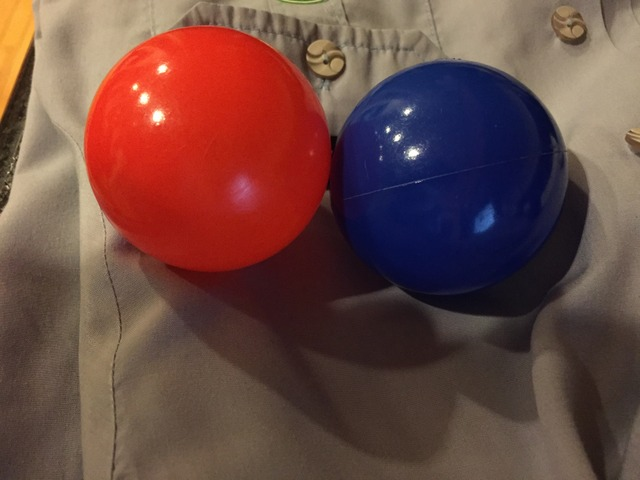Ball: (331, 58, 568, 297)
